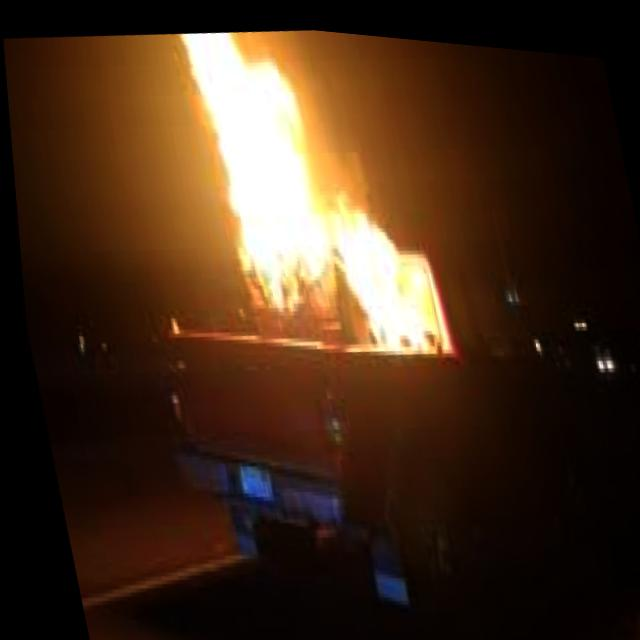no_helmet: (160, 12, 449, 382)
